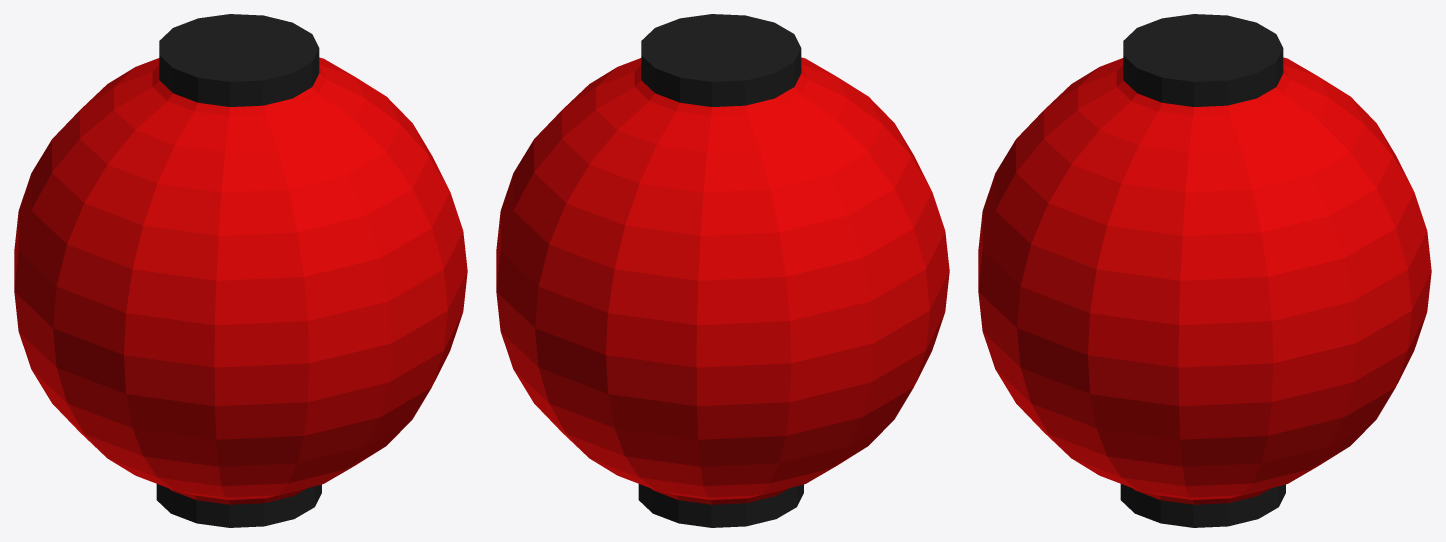
File: SmallLantern.glb
3 renders of one model, left to right at view 1: azimuth 30°, elevation 25°; view 2: azimuth 150°, elevation 25°; view 3: azimuth 270°, elevation 25°, orthographic.
Parts seen in each view (by area): view 1: Lantern_3; view 2: Lantern_3; view 3: Lantern_3.
Part boxes in pixels (x1,y1,x2,y2): Lantern_3: (14, 14, 467, 527); Lantern_3: (496, 14, 949, 527); Lantern_3: (978, 14, 1431, 527).
Bounding box in the file's own units: 0.2601 × 0.28 × 0.2587.
Materials: 1 (1 with a texture image).
